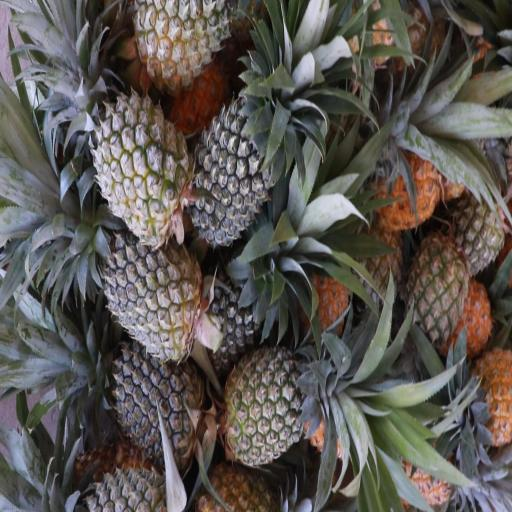------------------------------: (100, 91, 189, 243), (224, 347, 322, 466), (140, 0, 242, 81), (406, 242, 470, 346)
Pineapple - v8 v1: (380, 138, 446, 233), (466, 344, 511, 442)
